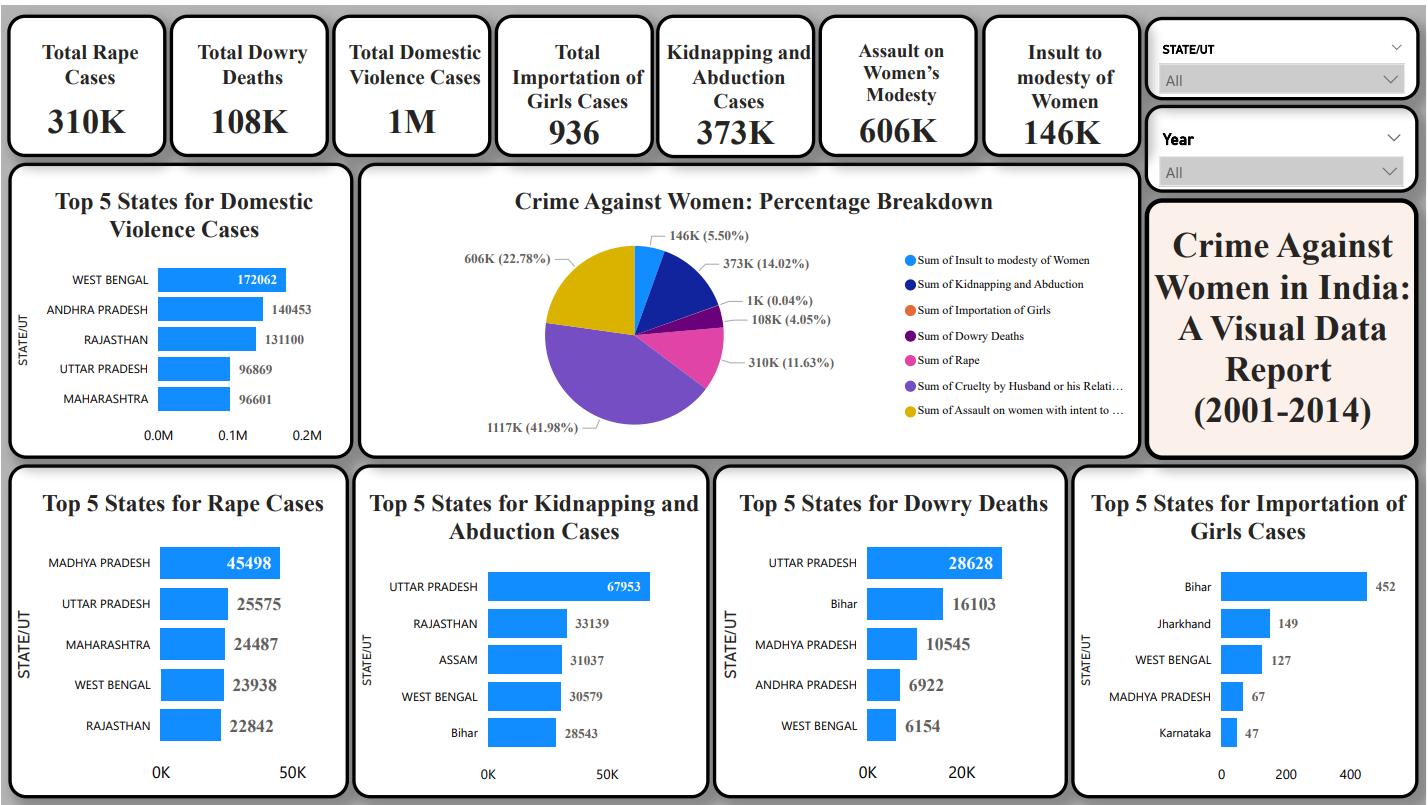

The page's visual inventory and layout, read from the dashboard file:
{"tool":"powerbi","page":{"name":"Report1","canvas":[1280,720],"ordinal":0},"visuals":[{"type":"clusteredBarChart","title":"Top 5 States for Rape Cases ","fields":{"Category":["women_crime.STATE/UT"],"Y":["Sum(women_crime.Rape)"]},"box":[6,412,306,300],"z":0},{"type":"barChart","title":"Top 5 States for Kidnapping and Abduction Cases ","fields":{"Category":["women_crime.STATE/UT"],"Y":["Sum(women_crime.Kidnapping and Abduction)"]},"box":[315,412,321,300],"z":1000},{"type":"clusteredBarChart","title":"Top 5 States for Dowry Deaths ","fields":{"Category":["women_crime.STATE/UT"],"Y":["Sum(women_crime.Dowry Deaths)"]},"box":[639,412,319,300],"z":2000},{"type":"clusteredBarChart","title":"Top 5 States for Importation of Girls Cases ","fields":{"Category":["women_crime.STATE/UT"],"Y":["Sum(women_crime.Importation of Girls)"]},"box":[961,412,312,300],"z":3000},{"type":"clusteredBarChart","title":"Top 5 States for Domestic Violence Cases ","fields":{"Category":["women_crime.STATE/UT"],"Y":["Sum(women_crime.Cruelty by Husband or his Relatives)"]},"box":[963,141.2,310.1,265.4],"z":4000},{"type":"card","title":"Total Rape Cases","fields":{"Values":["Sum(women_crime.Rape)"]},"box":[257,4.8,142,127.9],"z":5000},{"type":"pieChart","title":"Crime Against Women: Percentage Breakdown ","fields":{"Y":["Sum(women_crime.Insult to modesty of Women)","Sum(women_crime.Kidnapping and Abduction)","Sum(women_crime.Importation of Girls)","Sum(women_crime.Dowry Deaths)","Sum(women_crime.Rape)","Sum(women_crime.Cruelty by Husband or his Relatives)","Sum(women_crime.Assault on women with intent to outrage her modesty)"]},"box":[258,139.9,701,265.4],"z":6000},{"type":"card","title":"Total Dowry Deaths","fields":{"Values":["Sum(women_crime.Dowry Deaths)"]},"box":[403,4.8,142,127.9],"z":7000},{"type":"card","title":"Total Domestic Violence Cases","fields":{"Values":["Sum(women_crime.Cruelty by Husband or his Relatives)"]},"box":[549,4.8,142.4,127.9],"z":8000},{"type":"slicer","fields":{"Values":["women_crime.Year"]},"box":[6,325,246.1,81],"z":9000},{"type":"slicer","title":"State","fields":{"Values":["women_crime.STATE/UT"]},"box":[6,242,247.3,78],"z":10000},{"type":"card","title":"Total Importation of Girls Cases","fields":{"Values":["Sum(women_crime.Importation of Girls)"]},"box":[694,4.8,142.4,127.9],"z":11000},{"type":"card","title":"Kidnapping and Abduction Cases","fields":{"Values":["Sum(women_crime.Kidnapping and Abduction)"]},"box":[840,4.2,142.4,129.1],"z":12000},{"type":"card","title":"Assault on Women’s Modesty","fields":{"Values":["Sum(women_crime.Assault on women with intent to outrage her modesty)"]},"box":[985,4.8,142,127.9],"z":13000},{"type":"card","title":"Insult to modesty of Women","fields":{"Values":["Sum(women_crime.Insult to modesty of Women)"]},"box":[1130,4.8,142,128],"z":14000},{"type":"textbox","box":[6,4,246.1,235.3],"z":15000}]}

Visuals, with their boxes in screenshot pixels (x1, y1, x2, y2), scaled from the page's 1280x720 canvas onto the 1428x805 screenshot:
"Top 5 States for Rape Cases " clusteredBarChart: bbox=[7, 461, 348, 796]
"Top 5 States for Kidnapping and Abduction Cases " barChart: bbox=[351, 461, 710, 796]
"Top 5 States for Dowry Deaths " clusteredBarChart: bbox=[713, 461, 1069, 796]
"Top 5 States for Importation of Girls Cases " clusteredBarChart: bbox=[1072, 461, 1420, 796]
"Top 5 States for Domestic Violence Cases " clusteredBarChart: bbox=[1074, 158, 1420, 455]
"Total Rape Cases" card: bbox=[287, 5, 445, 148]
"Crime Against Women: Percentage Breakdown " pieChart: bbox=[288, 156, 1070, 453]
"Total Dowry Deaths" card: bbox=[450, 5, 608, 148]
"Total Domestic Violence Cases" card: bbox=[612, 5, 771, 148]
slicer - women_crime.Year: bbox=[7, 363, 281, 454]
"State" slicer: bbox=[7, 271, 283, 358]
"Total Importation of Girls Cases" card: bbox=[774, 5, 933, 148]
"Kidnapping and Abduction Cases" card: bbox=[937, 5, 1096, 149]
"Assault on Women’s Modesty" card: bbox=[1099, 5, 1257, 148]
"Insult to modesty of Women" card: bbox=[1261, 5, 1419, 148]
textbox: bbox=[7, 4, 281, 268]
